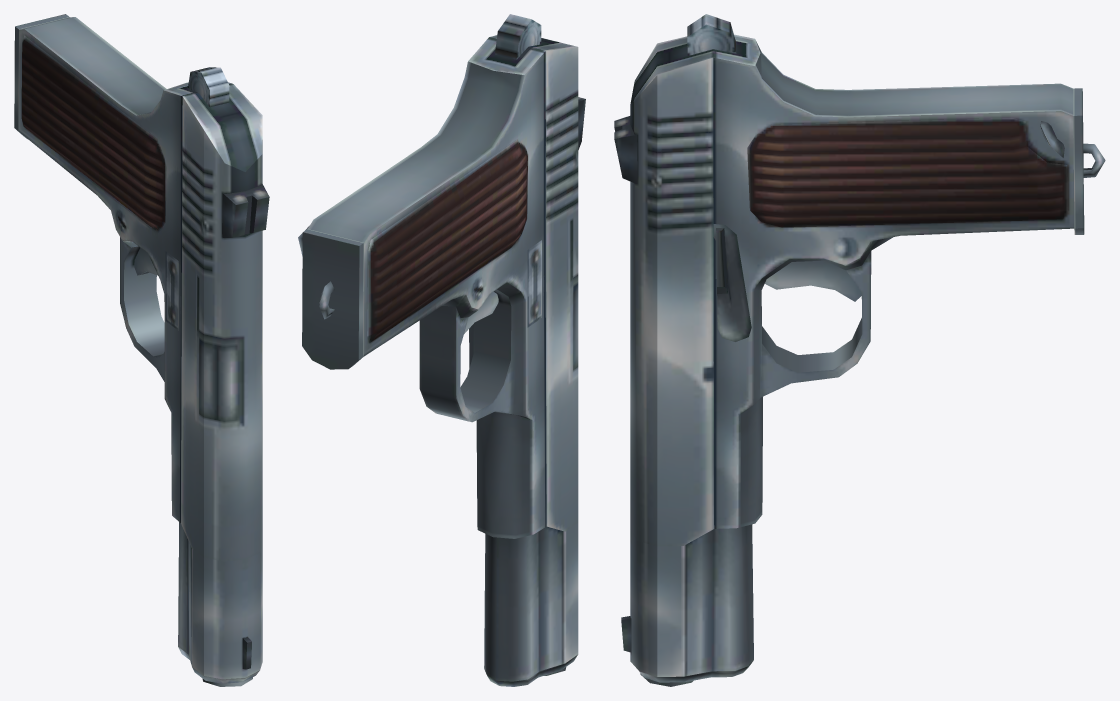
3 renders of one model, left to right at view 1: azimuth 30°, elevation 25°; view 2: azimuth 150°, elevation 25°; view 3: azimuth 270°, elevation 25°, orthographic. The views are drawn at different scales.
Visible parts, largest first — view 1: mGun; view 2: mGun; view 3: mGun.
Boxes of the visible parts, <box> form: mGun: <box>14,14,269,686</box>; mGun: <box>298,14,585,686</box>; mGun: <box>614,14,1105,686</box>.
Size of the model in its own units: 0.0318 by 0.2411 by 0.1639.
